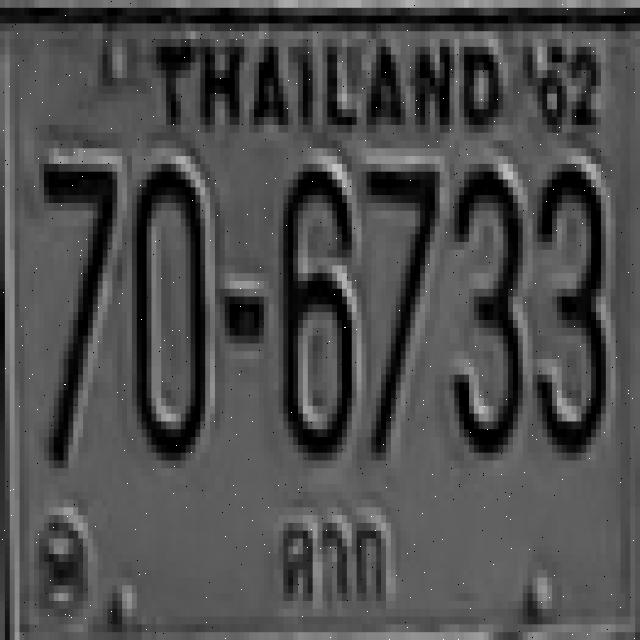0: (129, 156, 203, 452)
3: (530, 156, 604, 452), (444, 160, 518, 449)
6: (278, 156, 352, 452)
7: (38, 157, 112, 460), (361, 156, 435, 452), (38, 156, 112, 406), (38, 156, 112, 351)
Tak: (269, 511, 403, 616)
